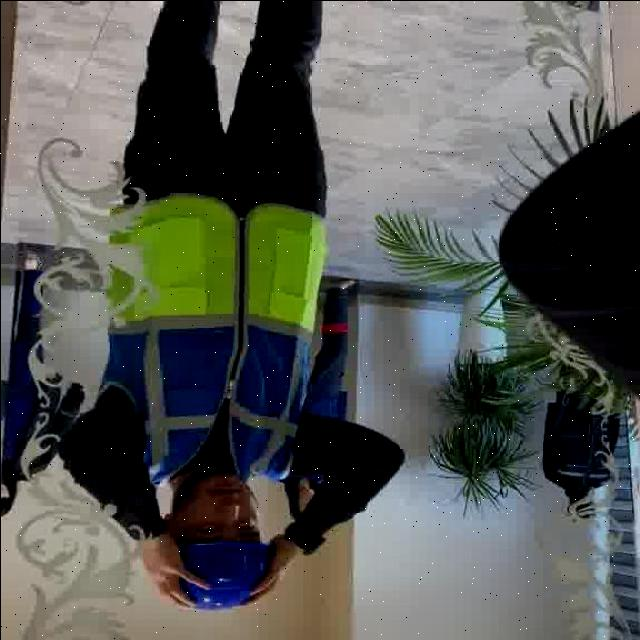Helmet: (172, 540, 275, 608)
Vest: (96, 189, 332, 491)
